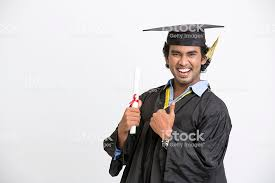Indian_Male: (156, 33, 212, 87)
